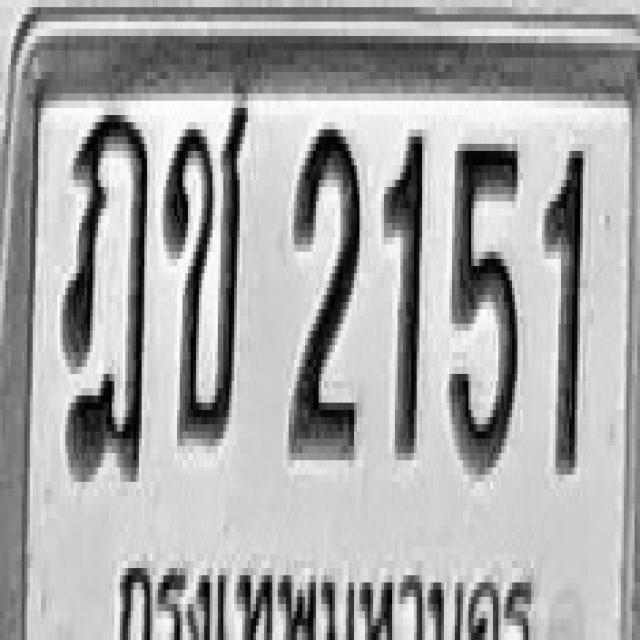1: (542, 143, 583, 474), (382, 126, 423, 457)
19ChorChang: (163, 97, 248, 442)
2: (288, 122, 359, 453)
23DorChaDa: (62, 108, 148, 482)
5: (448, 137, 519, 474)
